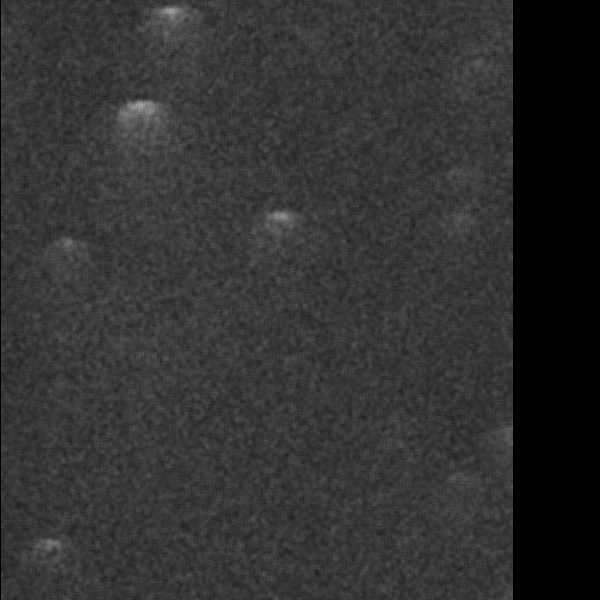spark: (18, 306, 60, 355)
